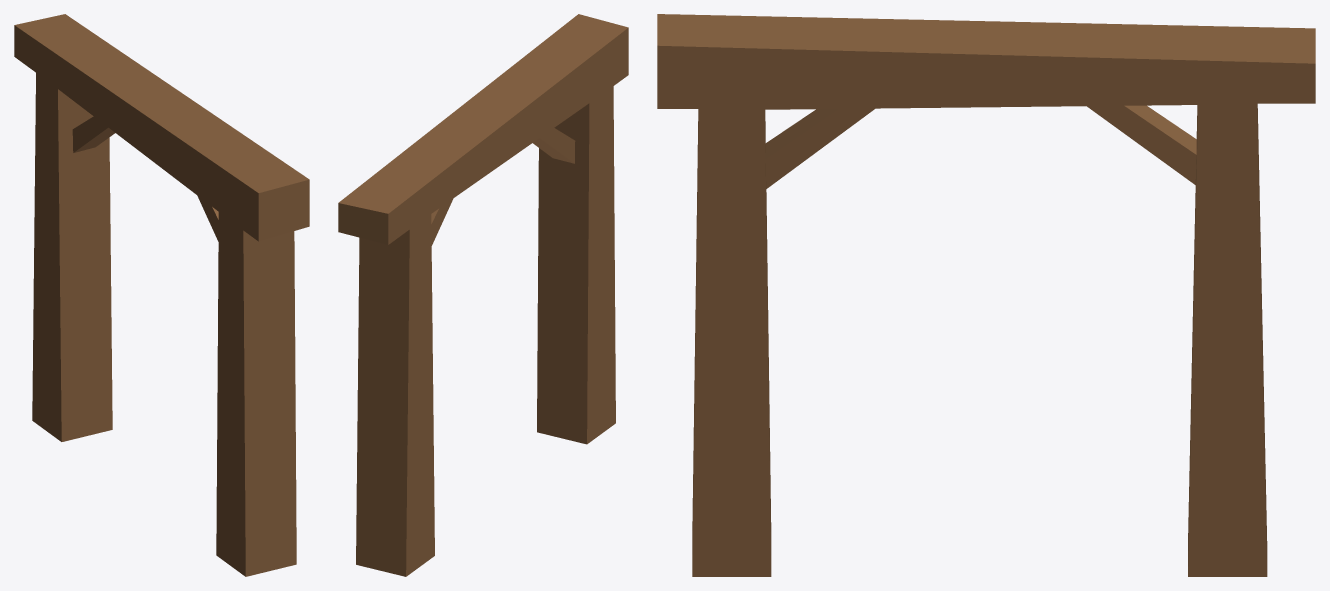
File: MineFrame02.fbx
The picture shows the model from 3 angles, left to right: view 1: azimuth 30°, elevation 25°; view 2: azimuth 150°, elevation 25°; view 3: azimuth 270°, elevation 25°; orthographic projection. The views are drawn at different scales.
Parts seen in each view (by area): view 1: MineFrame02; view 2: MineFrame02; view 3: MineFrame02.
Boxes of the visible parts, x1,y1,x2,y2 form: MineFrame02: [14, 14, 309, 576]; MineFrame02: [338, 14, 628, 576]; MineFrame02: [657, 14, 1315, 576].
Bounding box in the file's own units: 419 × 373 × 50.42.
